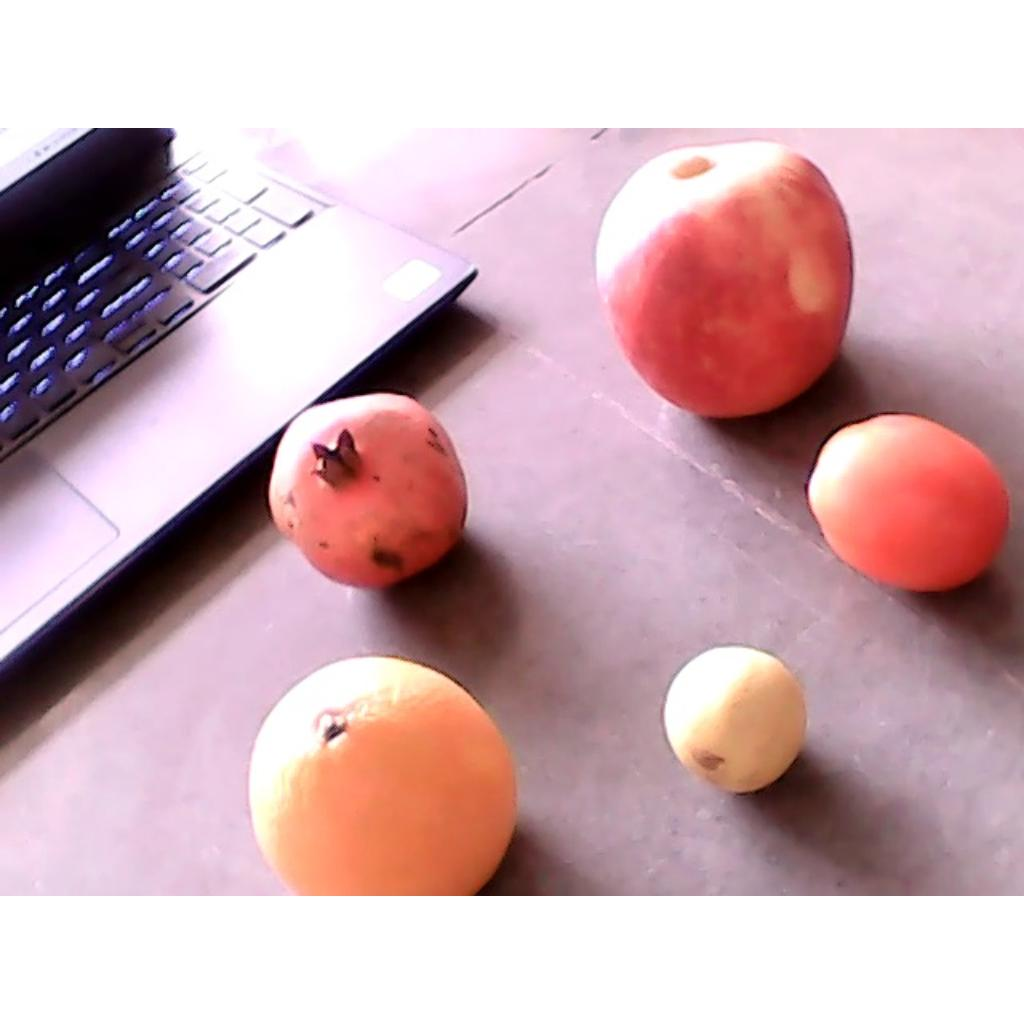apple: (595, 140, 857, 417)
lemon: (662, 647, 809, 795)
orange: (248, 650, 520, 891)
pomegranate: (270, 391, 471, 590)
tomato: (810, 410, 1008, 589)
